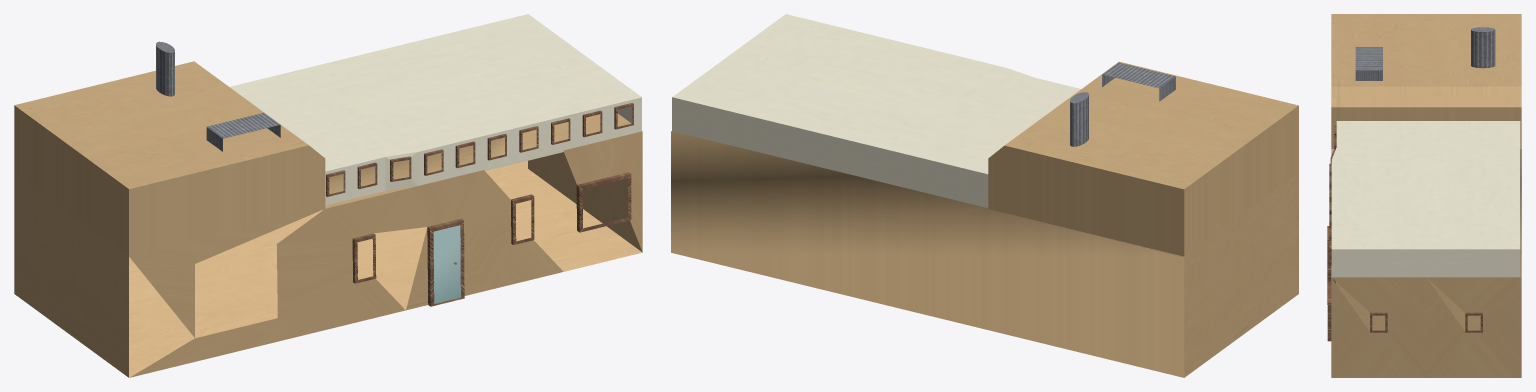
The model's file is Desert building2(04-20).FBX.
The picture shows the model from 3 angles, left to right: view 1: azimuth 30°, elevation 25°; view 2: azimuth 150°, elevation 25°; view 3: azimuth 270°, elevation 25°; orthographic projection. The views are drawn at different scales.
Visible parts, largest first — view 1: Box001, Box003, Object008, Object001, Object005, Box002, Object004, Object003, Object006, Cylinder001; view 2: Box001, Box003, Object008, Box002, Cylinder001; view 3: Box003, Box001, Object008, Cylinder001, Box002, Object007, Object001, Object006, Object004.
Part boxes in pixels (<box>): Box001: <box>14,113,642,377</box>; Box003: <box>230,14,641,205</box>; Object008: <box>14,61,325,257</box>; Object001: <box>326,103,633,196</box>; Object005: <box>433,225,460,303</box>; Box002: <box>206,113,280,151</box>; Object004: <box>427,218,464,306</box>; Object003: <box>352,194,534,283</box>; Object006: <box>576,172,631,232</box>; Cylinder001: <box>156,41,174,96</box>; Box001: <box>671,131,1298,377</box>; Box003: <box>672,14,1080,207</box>; Object008: <box>988,61,1298,256</box>; Box002: <box>1102,62,1175,101</box>; Cylinder001: <box>1070,92,1088,146</box>; Box003: <box>1331,121,1520,278</box>; Box001: <box>1331,149,1521,377</box>; Object008: <box>1331,14,1521,148</box>; Cylinder001: <box>1471,27,1495,68</box>; Box002: <box>1355,47,1382,80</box>; Object007: <box>1370,312,1482,332</box>; Object001: <box>1329,125,1336,265</box>; Object006: <box>1327,282,1331,341</box>; Object004: <box>1327,226,1331,304</box>.
Size of the model in its own units: 311 by 134 by 123.
